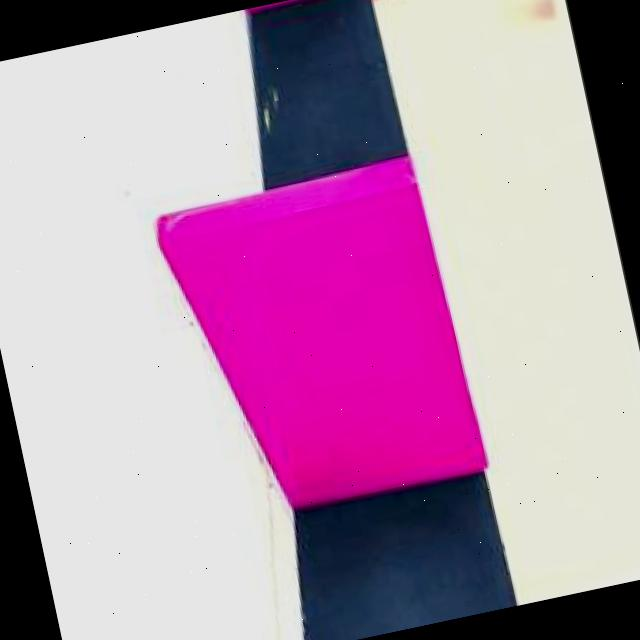xparking: (200, 154, 479, 516)
